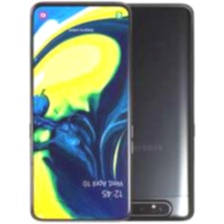phone: (87, 0, 196, 224), (27, 0, 134, 224)
